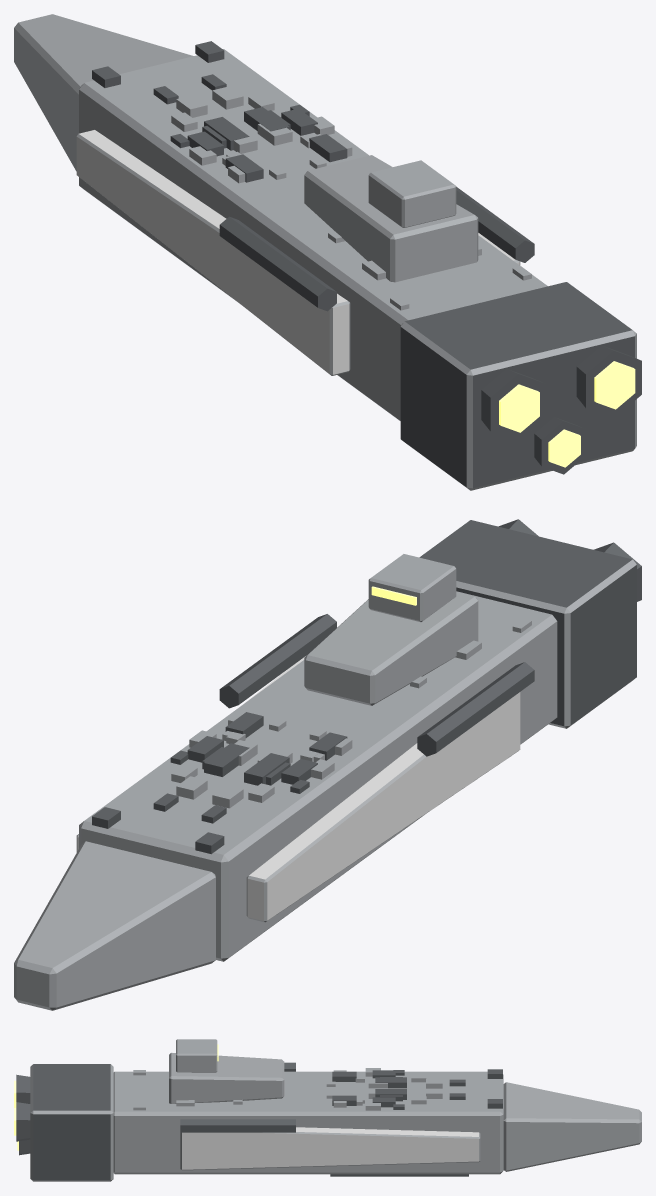
The model's file is human_battlecruiser_mk1.glb.
3 renders of one model, top to bottom at view 1: azimuth 30°, elevation 25°; view 2: azimuth 150°, elevation 25°; view 3: azimuth 270°, elevation 25°, orthographic. The views are drawn at different scales.
Parts seen in each view (by area): view 1: human_battlecruiser_mk1_LOD0; view 2: human_battlecruiser_mk1_LOD0; view 3: human_battlecruiser_mk1_LOD0.
Boxes of the visible parts, box(x1,y1,x2,y2) form: human_battlecruiser_mk1_LOD0: box(14, 14, 641, 490); human_battlecruiser_mk1_LOD0: box(14, 519, 641, 1010); human_battlecruiser_mk1_LOD0: box(14, 1039, 641, 1181).
Size of what is drawn, in the model's own units: 6.35 by 5.85 by 27.22.
